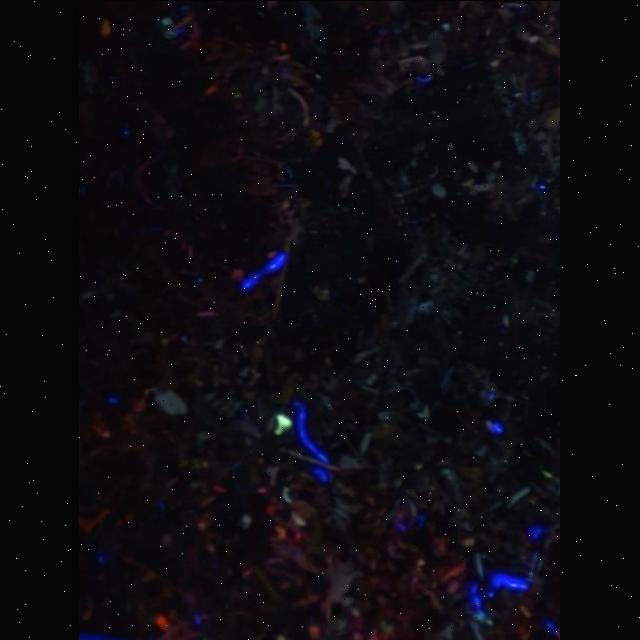microbeads: (275, 412, 293, 432)
